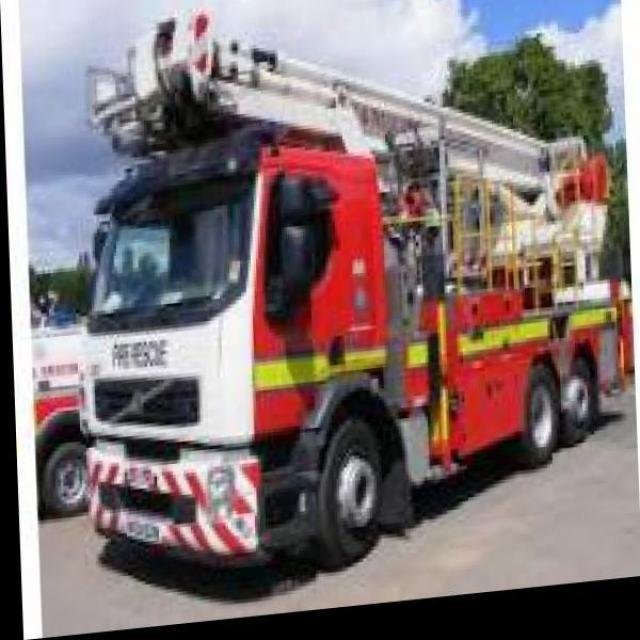emergency: (70, 7, 632, 573)
